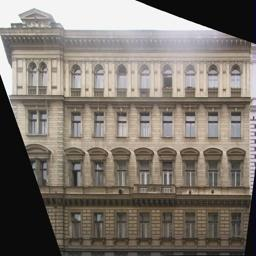building: (0, 3, 250, 256)
